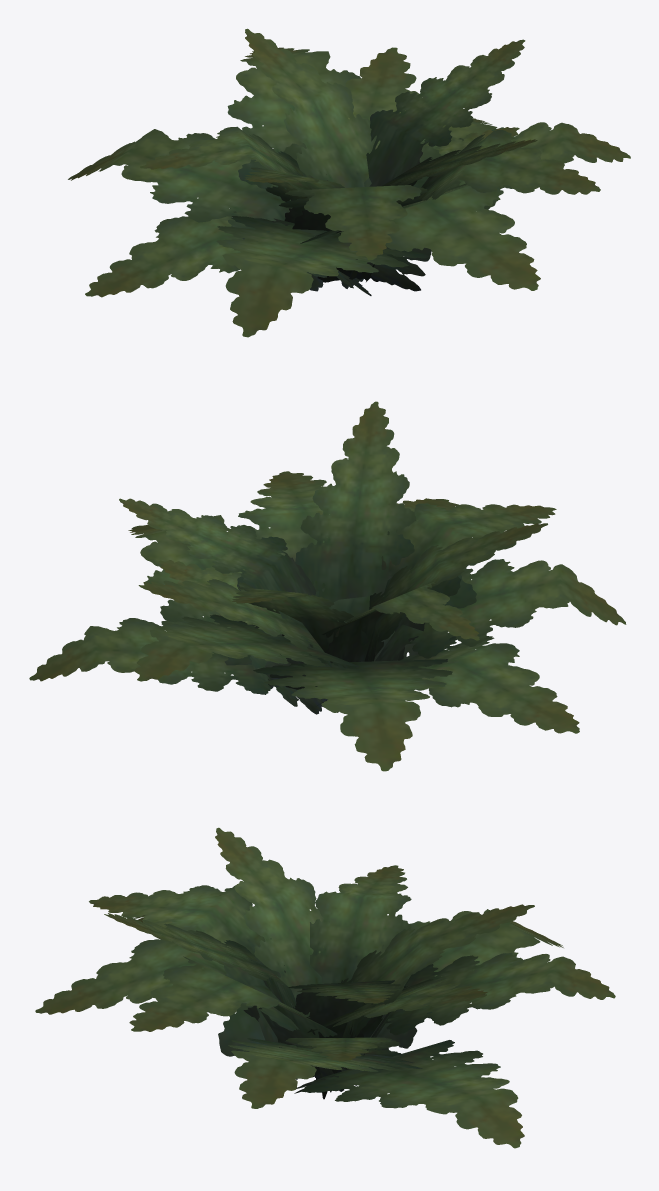
Rendered from grass_A.fbx.
3 views of the same model, one above another, from view 1: azimuth 30°, elevation 25°; view 2: azimuth 150°, elevation 25°; view 3: azimuth 270°, elevation 25° (orthographic).
Visible parts, largest first — view 1: grass_A; view 2: grass_A; view 3: grass_A.
Boxes of the visible parts, x1,y1,x2,y2 form: grass_A: [68, 28, 630, 337]; grass_A: [29, 401, 626, 771]; grass_A: [35, 827, 615, 1148].
Size of the model in its own units: 3.52 by 1.3 by 3.45.
